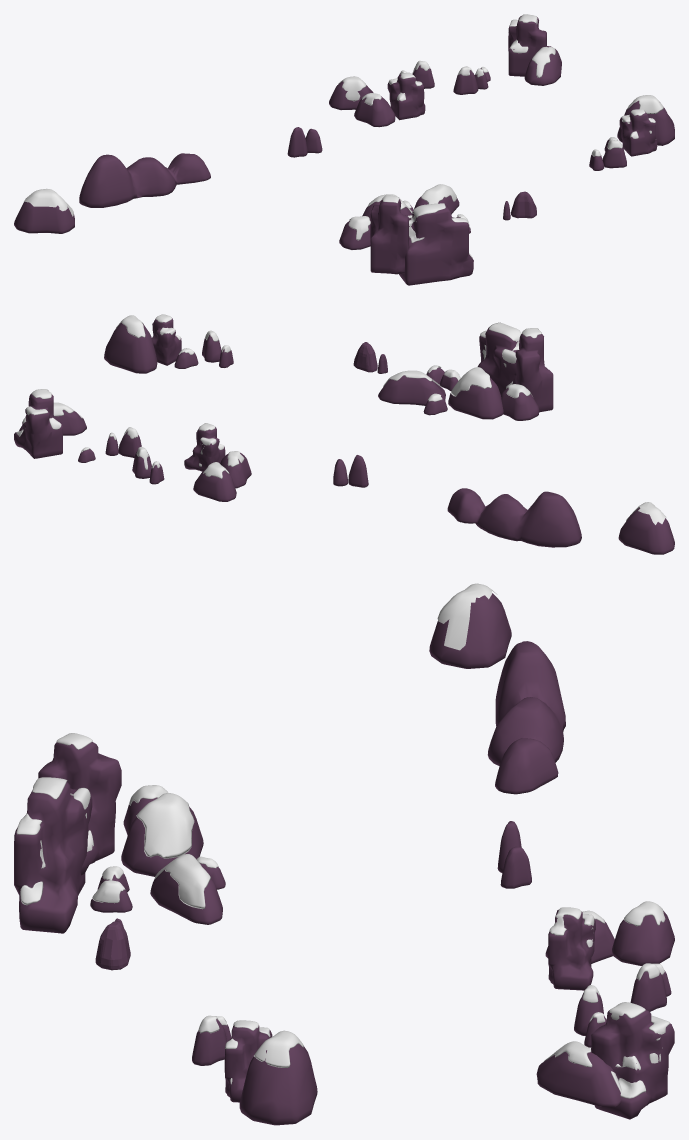
Rendered from boulders_1.fbx.
The picture shows the model from 3 angles, top to bottom: view 1: azimuth 30°, elevation 25°; view 2: azimuth 150°, elevation 25°; view 3: azimuth 270°, elevation 25°; orthographic projection. The views are drawn at different scales.
Visible parts, largest first — view 1: Circle.024; view 2: Circle.024; view 3: Circle.024.
Boxes of the visible parts, x1=… form: Circle.024: x1=14, y1=14, x2=674, y2=285; Circle.024: x1=14, y1=314, x2=674, y2=554; Circle.024: x1=14, y1=583, x2=674, y2=1125.
Bounding box in the file's own units: 4942 × 656 × 2799.
